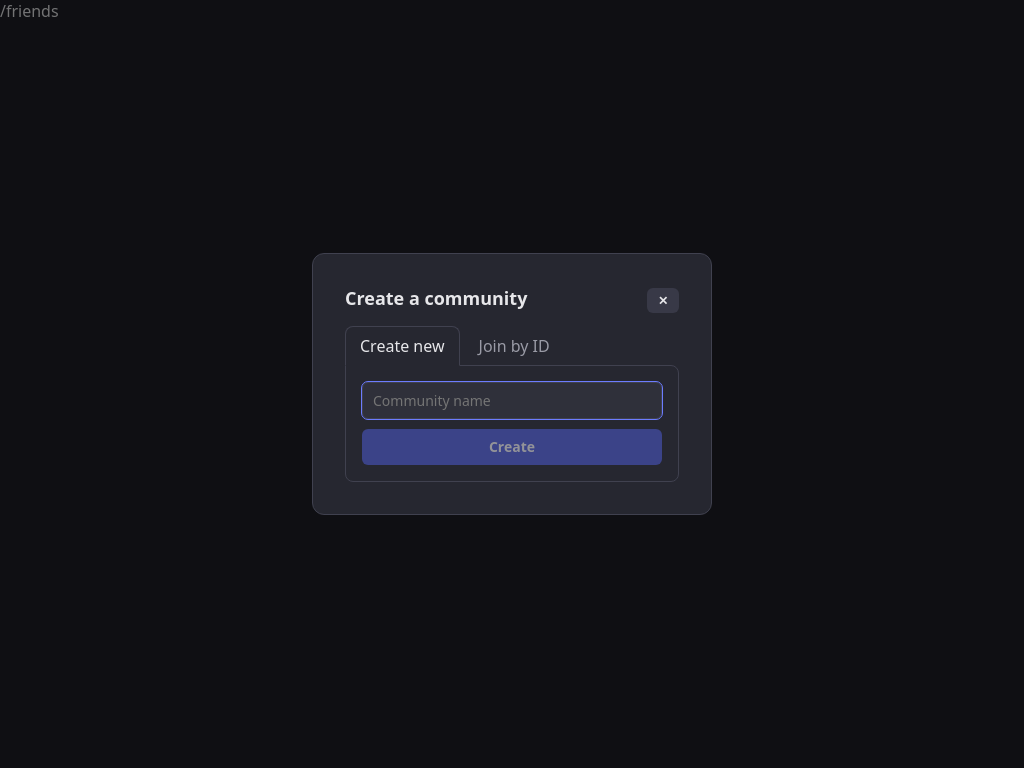
Scenario: NewCommunityModal: creating › still creates a community, and a failure there is the create message, not a join one
Type "Club" into the field with placeholder "Community name".
click(512, 401); type("Club")  # box [362, 382, 662, 419]
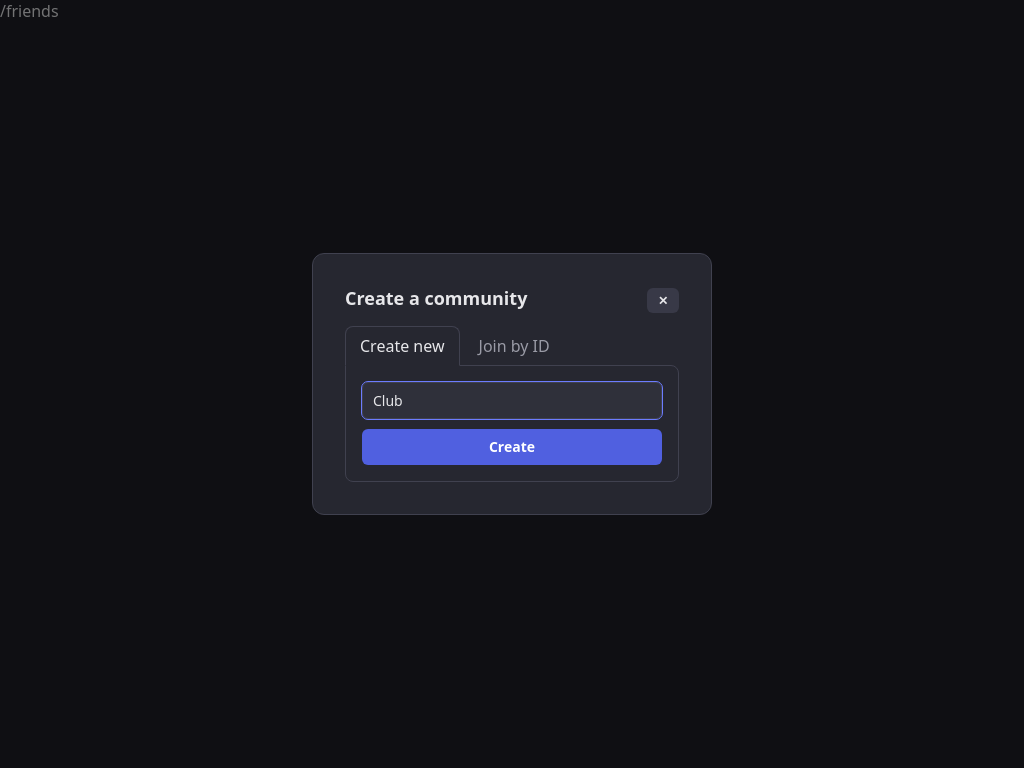
Click the button "Create".
click(512, 447)  # box [362, 429, 662, 465]
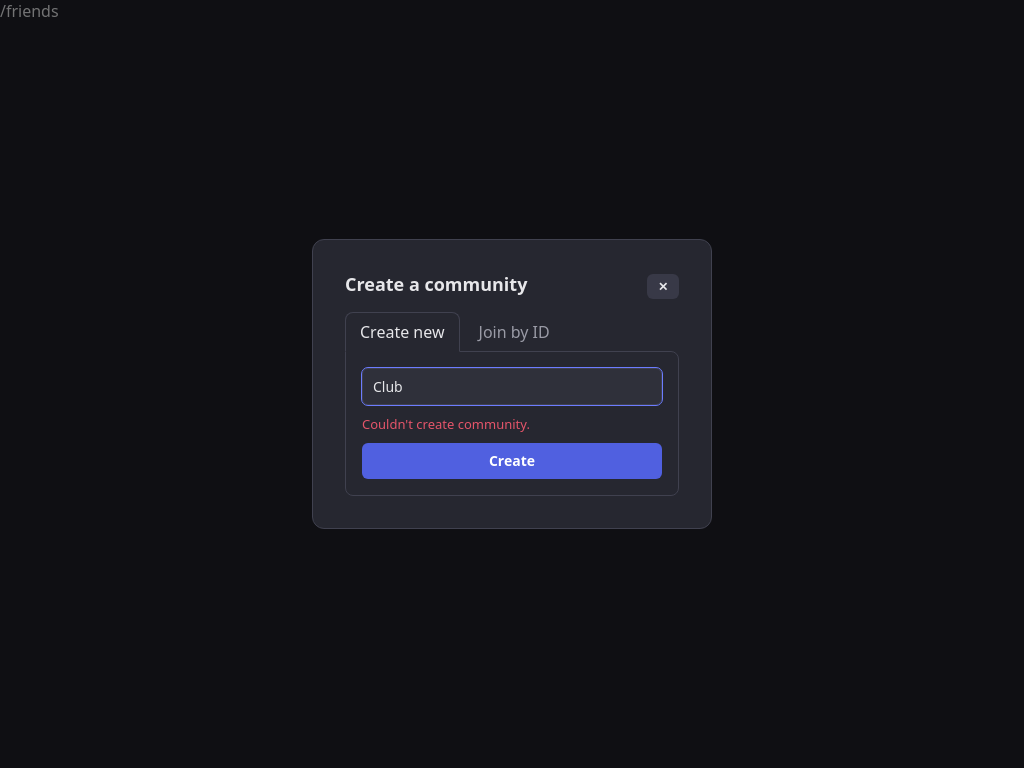
Expected: the text "Couldn't create community." is shown, [362, 415, 530, 433]
